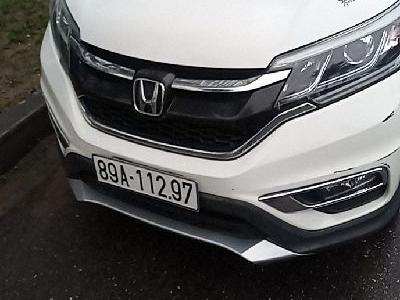car: (91, 154, 201, 212)
